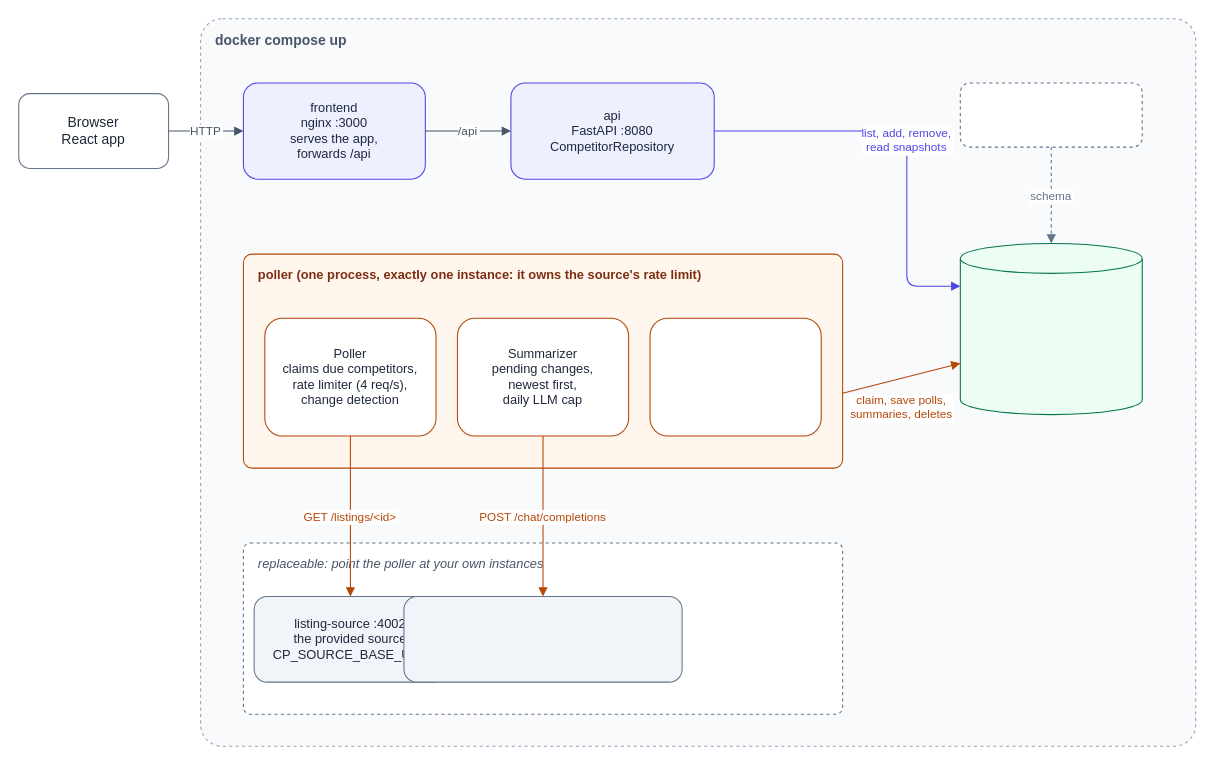
The diagram is 1214 pixels wide and 765 high, and some of its shapes have lost their labels. The centre of each missing label's shape, as x and y in pixels:
"Cleaner deletes history older than 90 days" goes at (735,376).
"migrate (one-shot) alembic upgrade head" goes at (1050,114).
"mock-llm :4001 / Ollama / yours OpenAI-compatible API CP_LLM_BASE_URL" goes at (542,638).
"PostgreSQL competitors snapshots llm_usage" goes at (1050,328).
